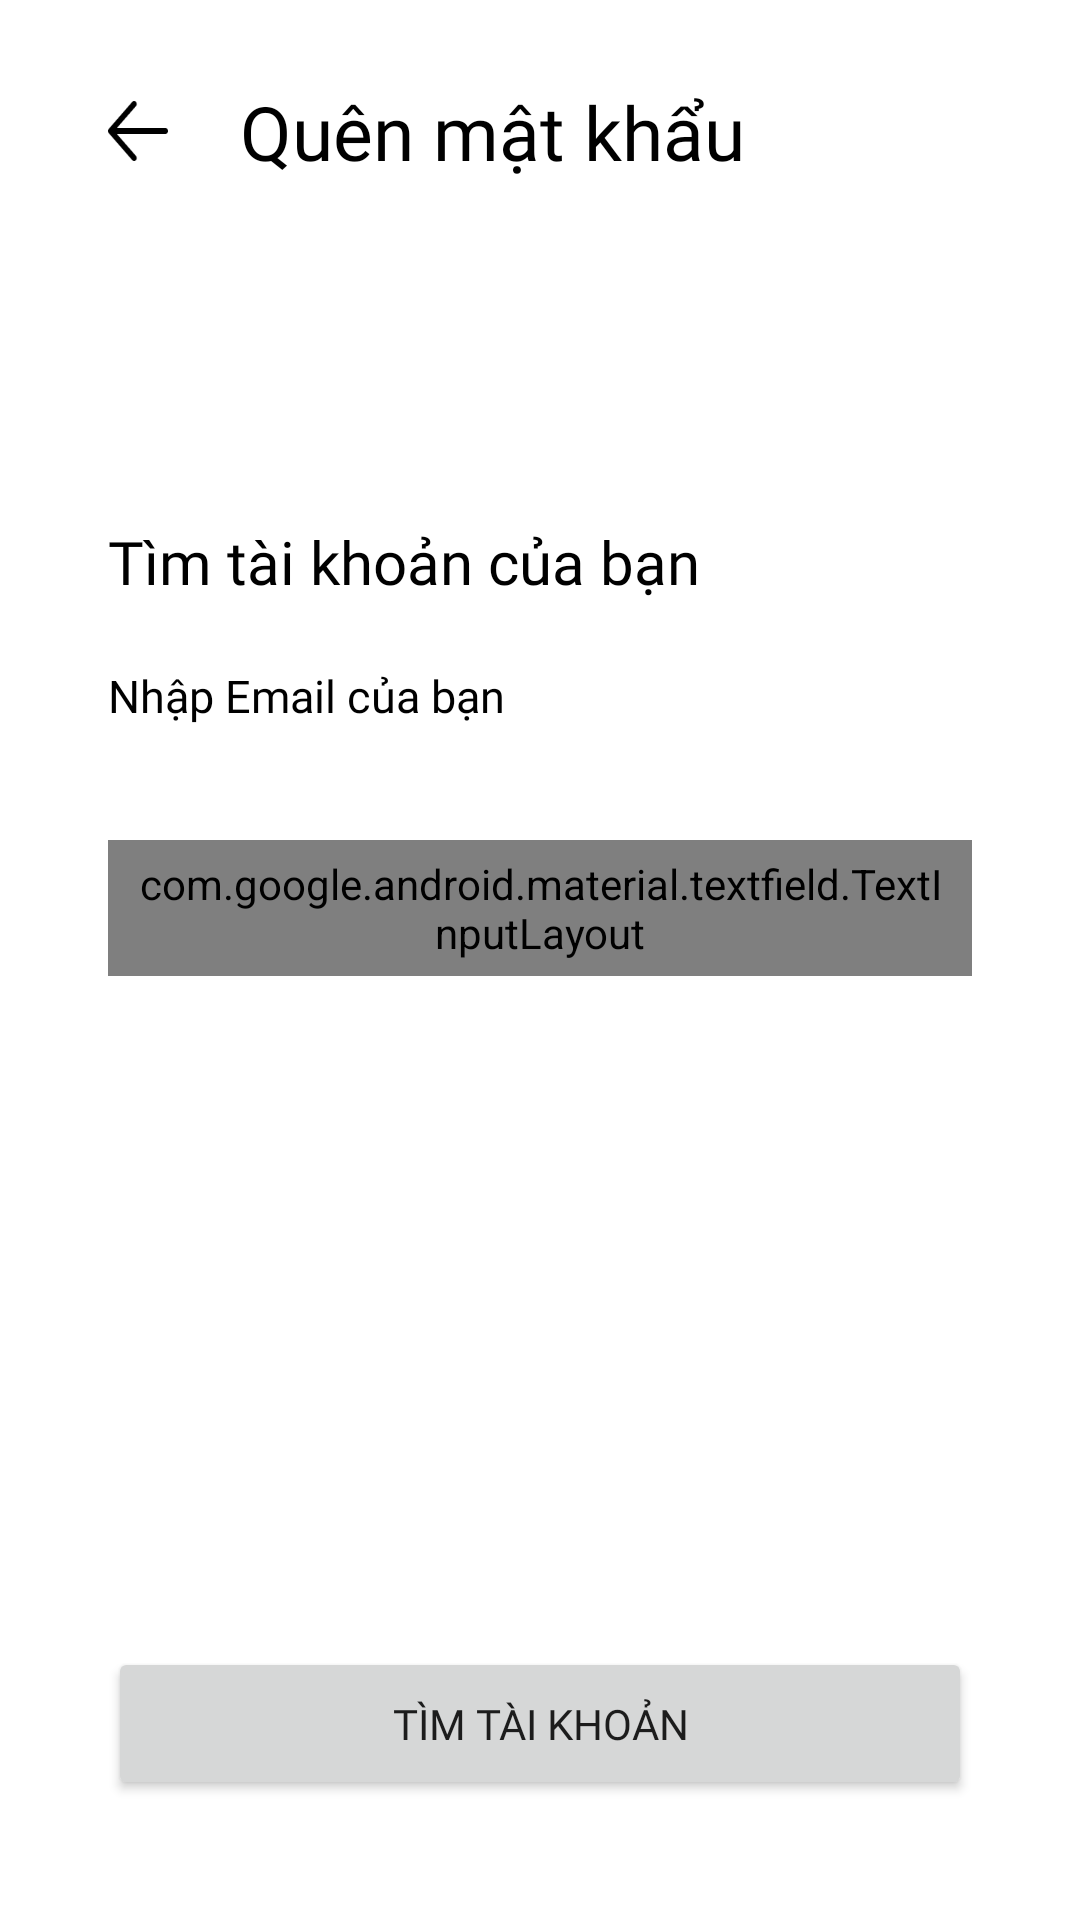

Icons on this 1080px x 1920px Android screen, each with the point to tap as (x=x, y=y):
back: (x=138, y=131)
